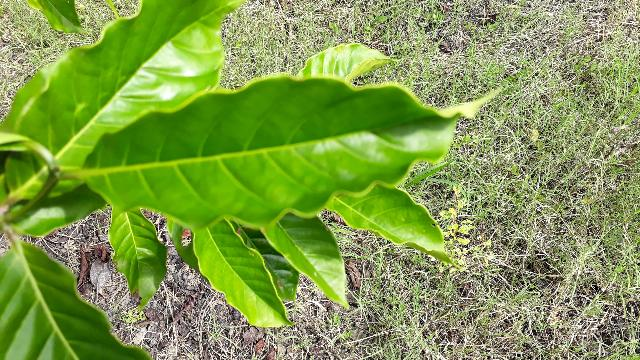healthy: (66, 71, 515, 233)
